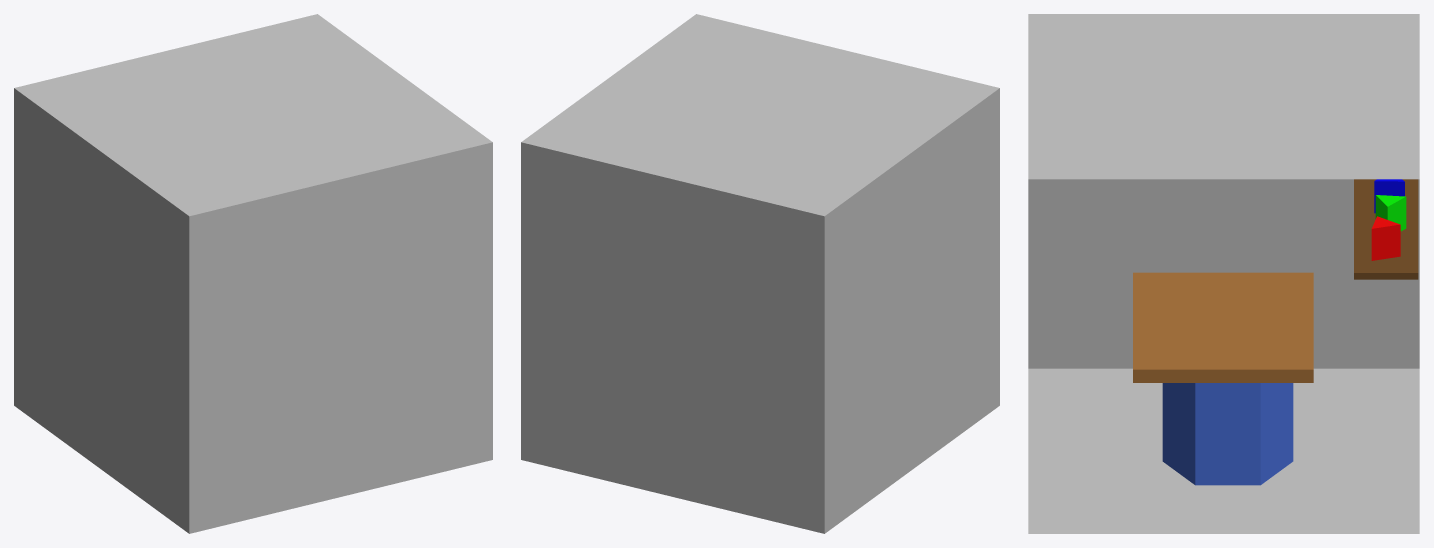
3 views of the same model, side by side, from view 1: azimuth 30°, elevation 25°; view 2: azimuth 150°, elevation 25°; view 3: azimuth 270°, elevation 25° (orthographic). The views are drawn at different scales.
Parts seen in each view (by area): view 1: Wall; view 2: Wall; view 3: Wall, Table, Base, Shelf, RedBook, GreenBook, BlueBook.
Boxes of the visible parts, x1,y1,x2,y2 form: Wall: (14,14,492,533); Wall: (521,14,999,533); Wall: (1028,14,1419,533); Table: (1133,272,1313,382); Base: (1162,383,1293,485); Shelf: (1354,179,1418,279); RedBook: (1371,216,1400,260); GreenBook: (1375,195,1406,231); BlueBook: (1374,179,1404,213).
Size of the model in its own units: 6 by 6 by 6.
